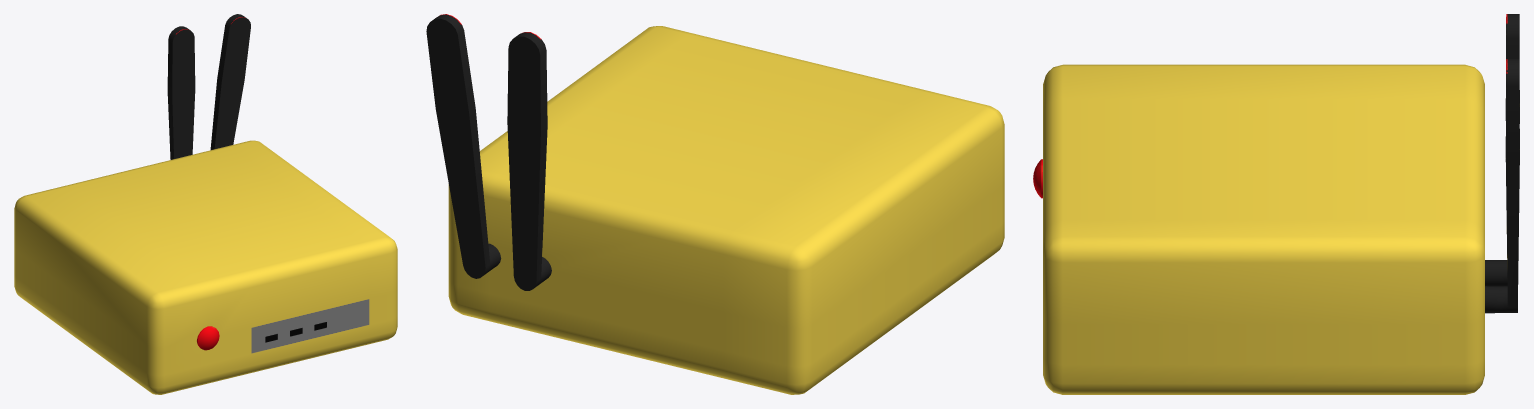
The picture shows the model from 3 angles, left to right: view 1: azimuth 30°, elevation 25°; view 2: azimuth 150°, elevation 25°; view 3: azimuth 270°, elevation 25°; orthographic projection. The views are drawn at different scales.
Parts seen in each view (by area): view 1: Cube; view 2: Cube; view 3: Cube.
Part boxes in pixels (x1,y1,x2,y2): Cube: [14, 14, 397, 394]; Cube: [426, 14, 1004, 394]; Cube: [1033, 14, 1519, 394].
Bounding box in the file's own units: 2 × 1.67 × 2.2.
Materials: 1 (1 with a texture image).
